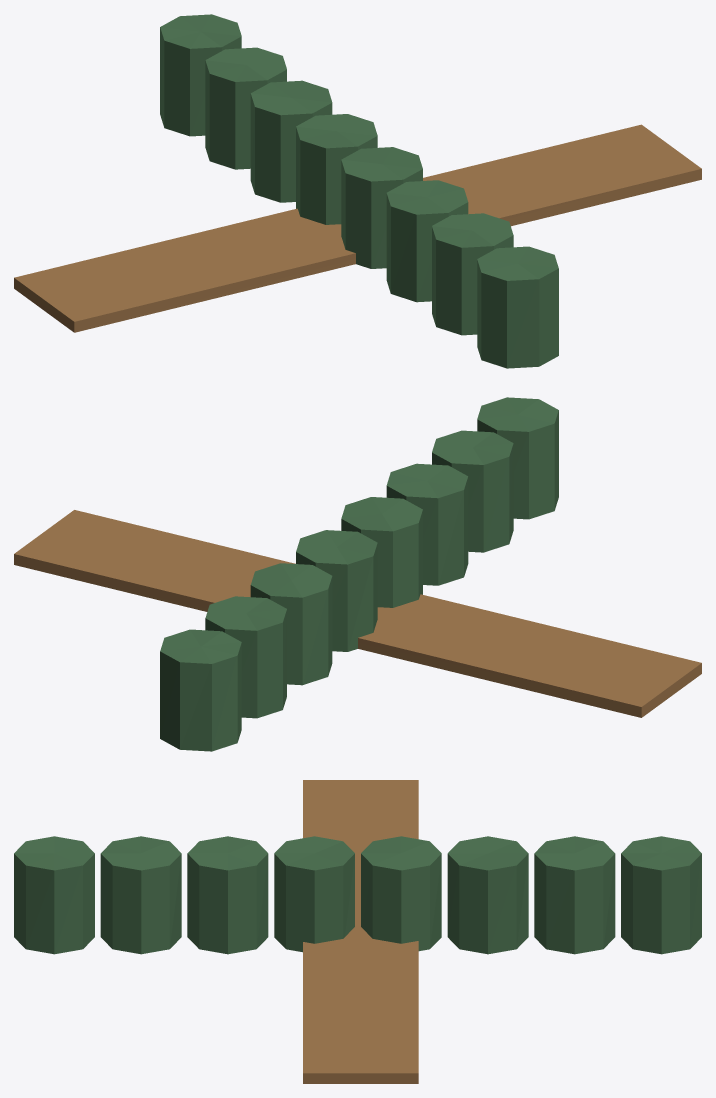
Rendered from Hedgerow.glb.
3 views of the same model, one above another, from view 1: azimuth 30°, elevation 25°; view 2: azimuth 150°, elevation 25°; view 3: azimuth 270°, elevation 25° (orthographic). The views are drawn at different scales.
Parts seen in each view (by area): view 1: hedgerow-static-hedgerow-leaf, hedgerow-static-hedgerow-earth; view 2: hedgerow-static-hedgerow-leaf, hedgerow-static-hedgerow-earth; view 3: hedgerow-static-hedgerow-leaf, hedgerow-static-hedgerow-earth.
Part boxes in pixels (x1,y1,x2,y2): hedgerow-static-hedgerow-leaf: (160, 14, 558, 368); hedgerow-static-hedgerow-earth: (14, 124, 701, 332); hedgerow-static-hedgerow-leaf: (160, 397, 558, 751); hedgerow-static-hedgerow-earth: (14, 510, 701, 717); hedgerow-static-hedgerow-leaf: (14, 836, 701, 954); hedgerow-static-hedgerow-earth: (303, 780, 418, 1083).
Size of the model in its own units: 6 by 0.8 by 5.95.
